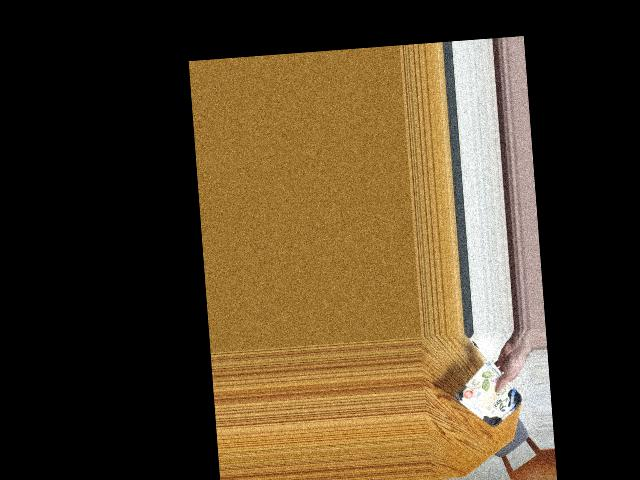cheese: (460, 378, 519, 420)
